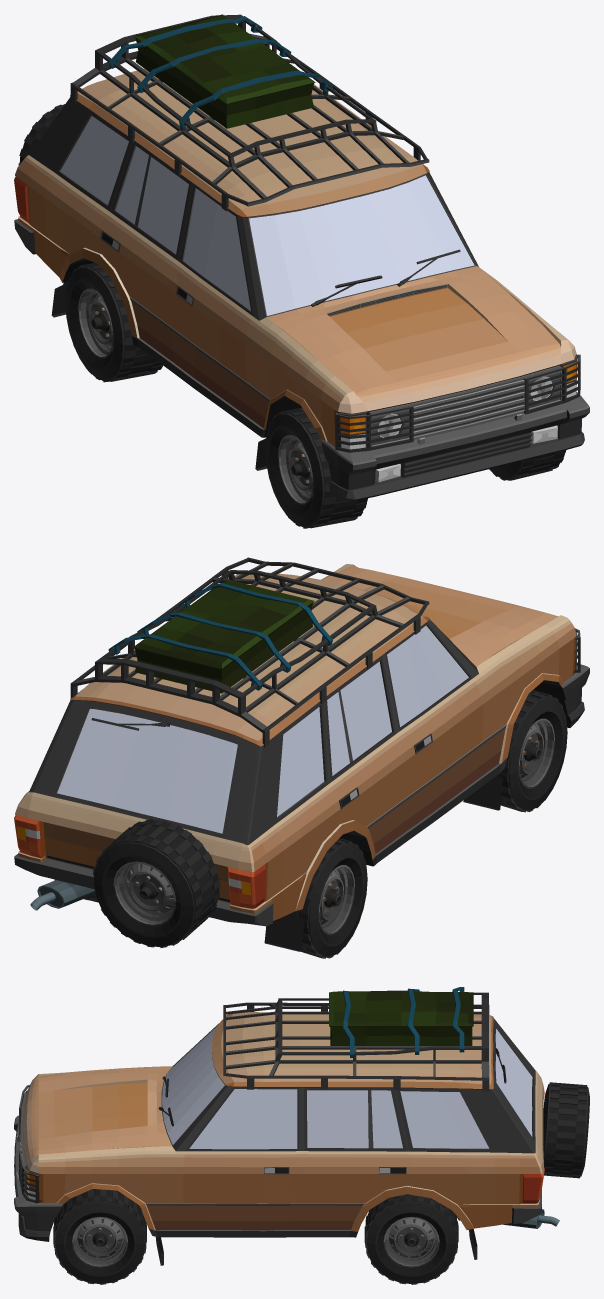
File: toyota_land_cruiser_2024.glb
The picture shows the model from 3 angles, top to bottom: view 1: azimuth 30°, elevation 25°; view 2: azimuth 150°, elevation 25°; view 3: azimuth 270°, elevation 25°; orthographic projection. The views are drawn at different scales.
Visible parts, largest first — view 1: Car.002, Bag, Car, Tire3, Tire4, Car.003, Car.001, Tire1, Spare Tire; view 2: Car.002, Bag, Car, Spare Tire, Tire3, Tire4, Car.010, Car.012, Car.011; view 3: Car.002, Bag, Car, Tire1, Tire2, Spare Tire, Car.001, Car.010.
Boxes of the visible parts, bbox=[...] form: Car.002: bbox=[14, 68, 589, 500]; Bag: bbox=[108, 14, 332, 128]; Car: bbox=[70, 14, 429, 211]; Tire3: bbox=[265, 408, 367, 528]; Tire4: bbox=[65, 262, 162, 382]; Car.003: bbox=[335, 406, 413, 452]; Car.001: bbox=[523, 354, 580, 414]; Tire1: bbox=[489, 450, 566, 480]; Spare Tire: bbox=[18, 104, 64, 165]; Car.002: bbox=[14, 564, 589, 926]; Bag: bbox=[108, 579, 332, 693]; Car: bbox=[70, 557, 429, 747]; Spare Tire: bbox=[92, 819, 220, 947]; Tire3: bbox=[497, 689, 567, 812]; Tire4: bbox=[296, 838, 367, 958]; Car.010: bbox=[30, 880, 95, 910]; Car.012: bbox=[264, 911, 304, 951]; Car.011: bbox=[463, 775, 502, 810]; Car.002: bbox=[14, 1012, 544, 1241]; Bag: bbox=[329, 987, 473, 1057]; Car: bbox=[223, 992, 489, 1091]; Tire1: bbox=[53, 1189, 146, 1284]; Tire2: bbox=[364, 1194, 458, 1284]; Spare Tire: bbox=[543, 1082, 589, 1178]; Car.001: bbox=[19, 1150, 41, 1203]; Car.010: bbox=[503, 1209, 559, 1228].
Size of the model in its own units: 2.52 by 2.92 by 6.49.
2 materials, 1 textured.
